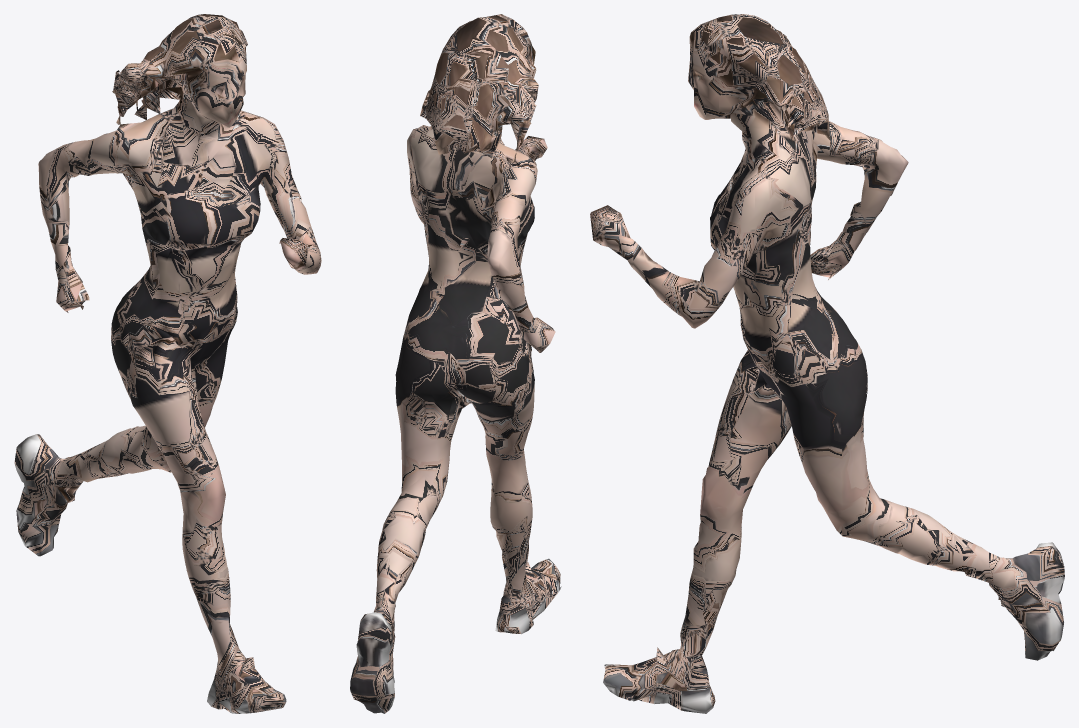
File: runner.glb
3 renders of one model, left to right at view 1: azimuth 30°, elevation 25°; view 2: azimuth 150°, elevation 25°; view 3: azimuth 270°, elevation 25°, orthographic. The views are drawn at different scales.
Parts seen in each view (by area): view 1: body; view 2: body; view 3: body.
Part boxes in pixels (<box>): body: <box>14,14,321,713</box>; body: <box>350,14,561,713</box>; body: <box>590,14,1064,713</box>.
Bounding box in the file's own units: 0.5632 × 1.8 × 1.12.
Materials: 1 (1 with a texture image).
